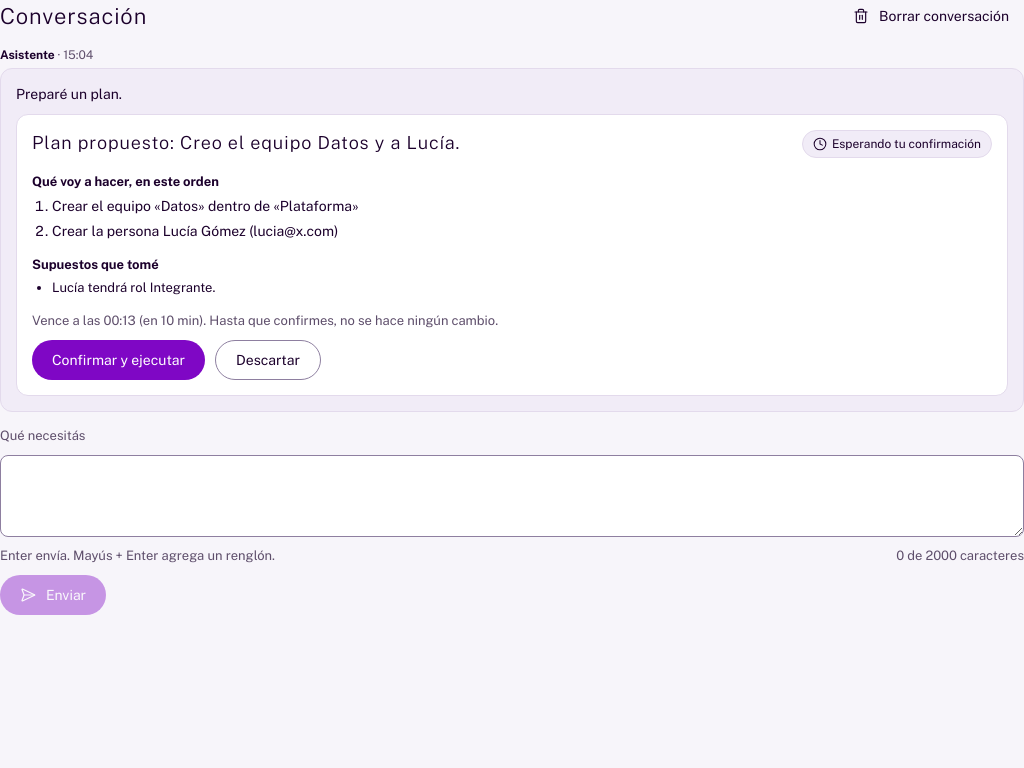
Test case: ChatPanel › confirmar: envía el hash, muestra el resultado con la clave y enfoca el resultado
Step 1. Click the button "Confirmar y ejecutar" → (118, 360), box [32, 340, 205, 380]
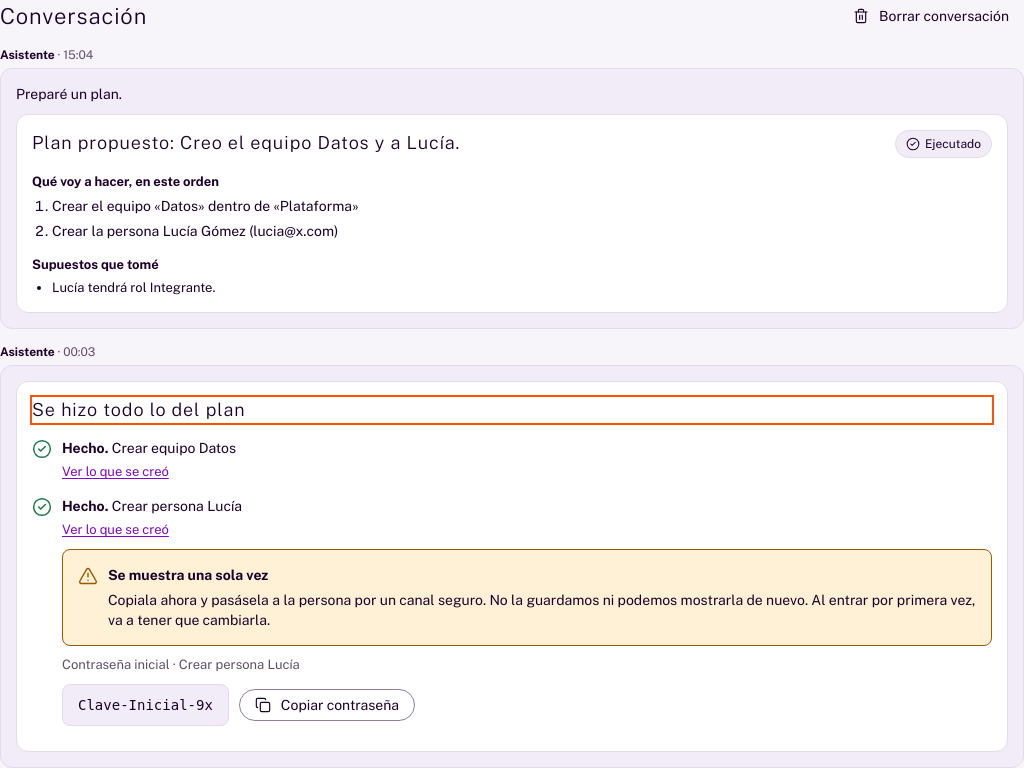
Now the text "Clave-Inicial-9x" is shown, box [62, 684, 229, 726]
Now the text "Ejecutado" is shown, box [895, 130, 992, 158]
Now the button "Confirmar y ejecutar" is gone
